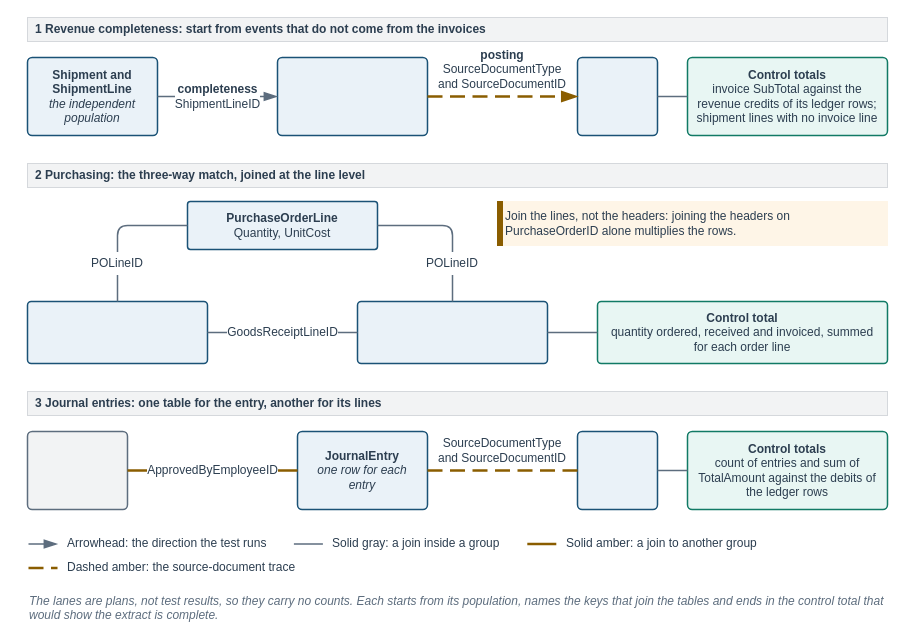
Image size: 906x643. Some labels were removed from this diagram. The centre of each missing label's shape, as x and y in pixels:
"Employee the approver" goes at pixel 77 470.
"GLEntry its lines" goes at pixel 617 470.
"GLEntry the ledger" goes at pixel 617 96.
"GoodsReceiptLine QuantityReceived no unit cost of its own" goes at pixel 117 332.
"PurchaseInvoiceLine Quantity, UnitCost" goes at pixel 452 332.
"SalesInvoiceLine and SalesInvoice the recorded revenue" goes at pixel 352 96.
